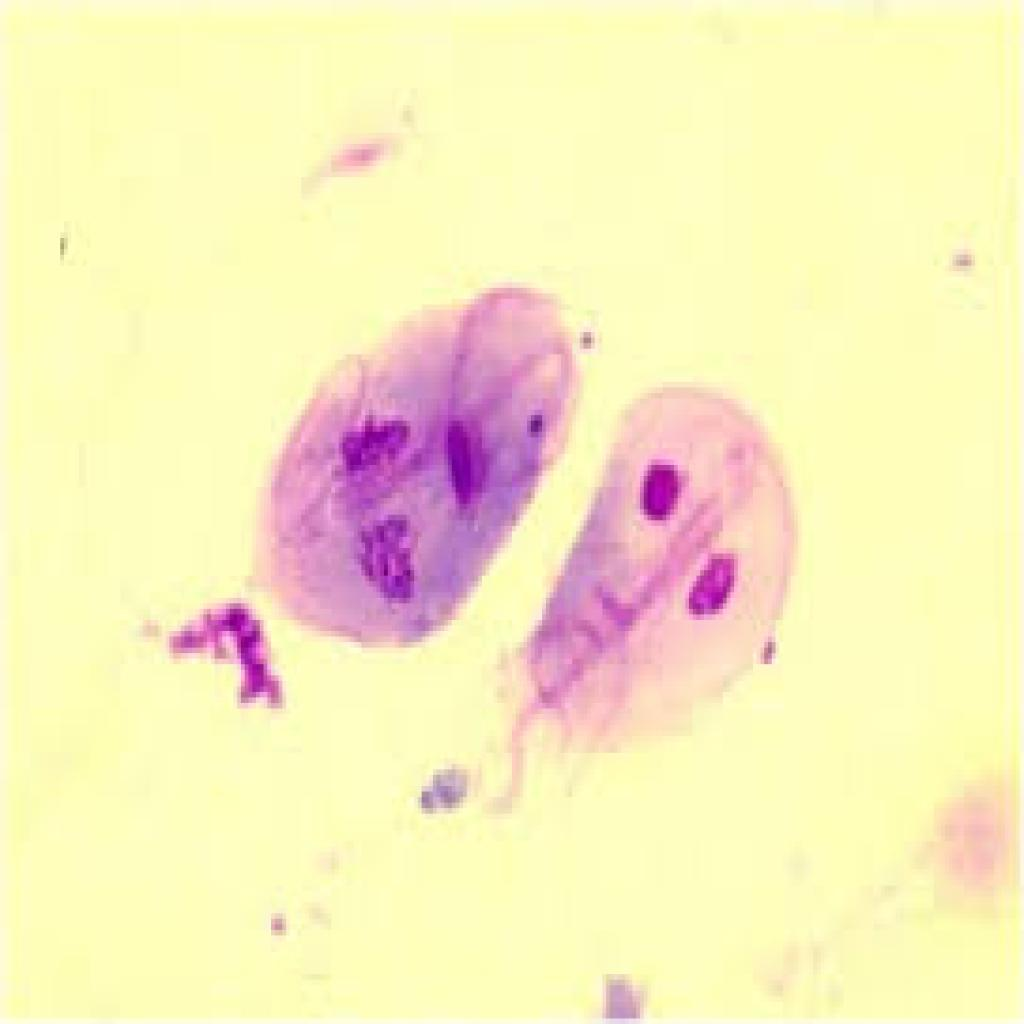Giardia: (200, 277, 580, 653), (497, 376, 802, 770)
